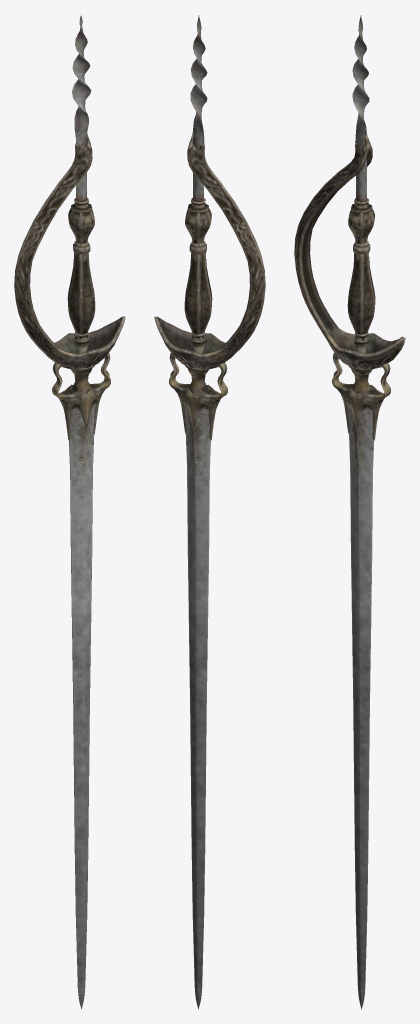
File: weapon-wp_a_0301.glb
The picture shows the model from 3 angles, left to right: view 1: azimuth 30°, elevation 25°; view 2: azimuth 150°, elevation 25°; view 3: azimuth 330°, elevation 25°; orthographic projection.
Parts seen in each view (by area): view 1: wp_a_0301_mesh; view 2: wp_a_0301_mesh; view 3: wp_a_0301_mesh.
Boxes of the visible parts, x1,y1,x2,y2 form: wp_a_0301_mesh: (14,14,125,1009); wp_a_0301_mesh: (154,15,265,1009); wp_a_0301_mesh: (294,15,405,1009).
Size of the model in its own units: 0.2631 by 2.25 by 0.1059.
Materials: 1 (1 with a texture image).
